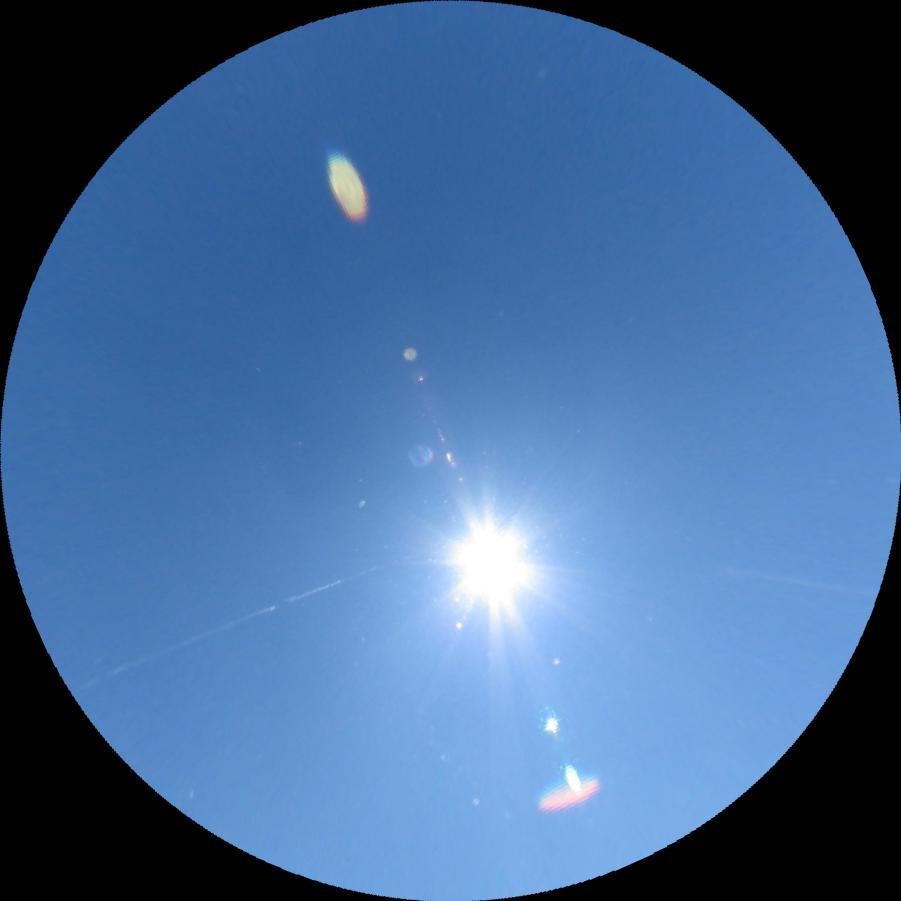parasite: (68, 554, 378, 696), (718, 565, 864, 599)
sun: (428, 506, 548, 627)
